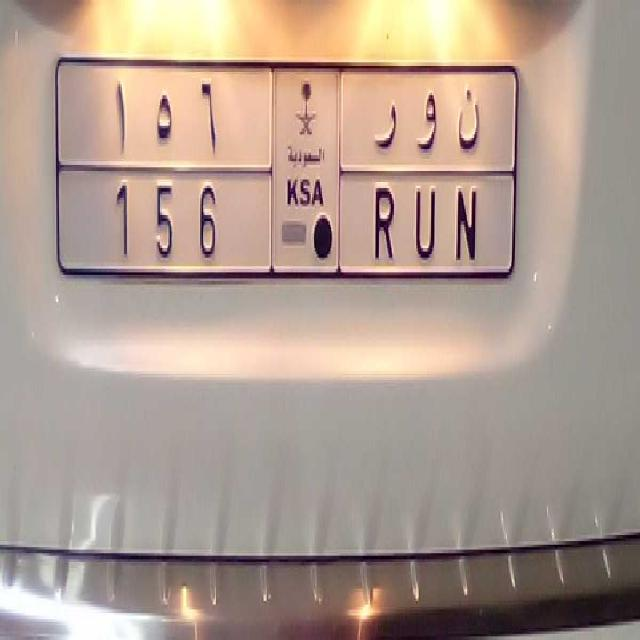license_plate: (94, 165, 487, 287)
